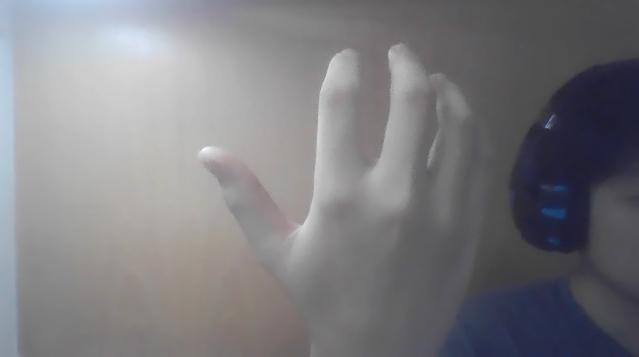backword: (198, 41, 495, 355)
